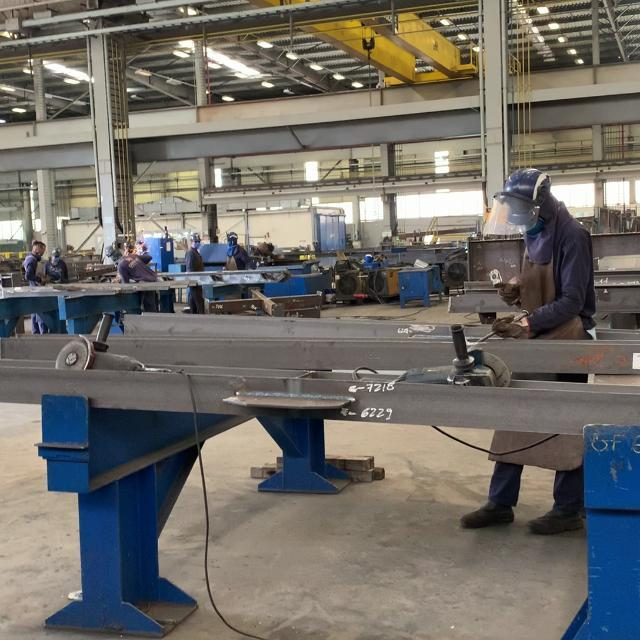face-shield: (481, 193, 538, 237)
glove: (491, 315, 525, 339), (498, 281, 521, 309)
helmet: (503, 167, 553, 204)
person: (458, 166, 596, 537)
safety-shoe: (529, 504, 587, 537), (460, 504, 517, 530)
